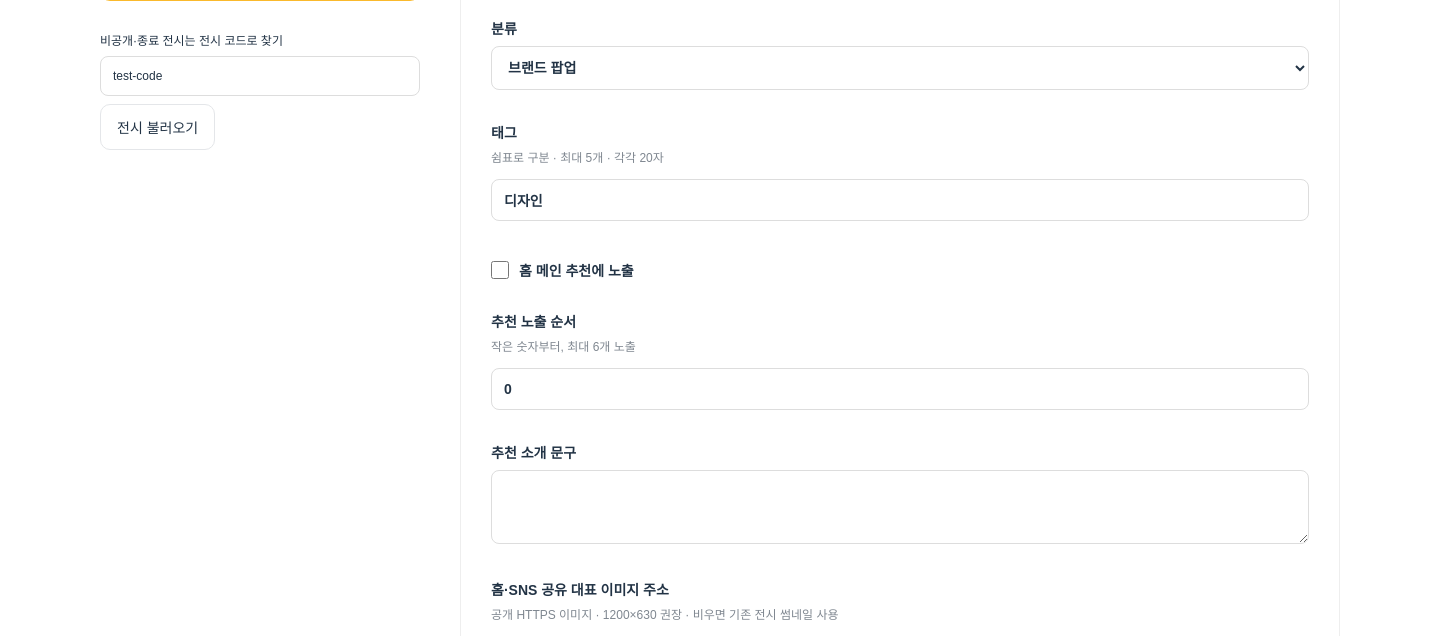
Test case: admin saves category, parsed tags and recommendation setting
(page scrolled)
Click the checkbox labelled "홈 메인 추천에 노출".
click(500, 270)  # box [491,261,509,279]
(page scrolled)
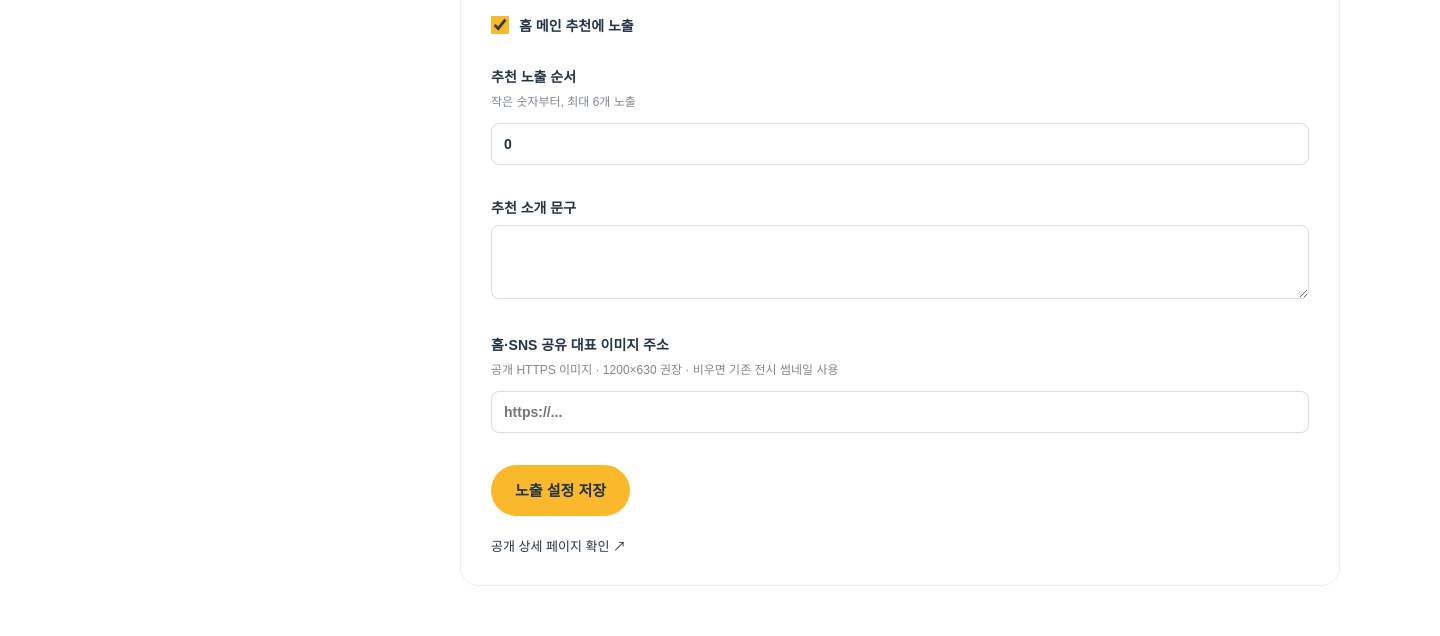
Click the button "노출 설정 저장".
click(561, 490)  # box [491,465,630,516]
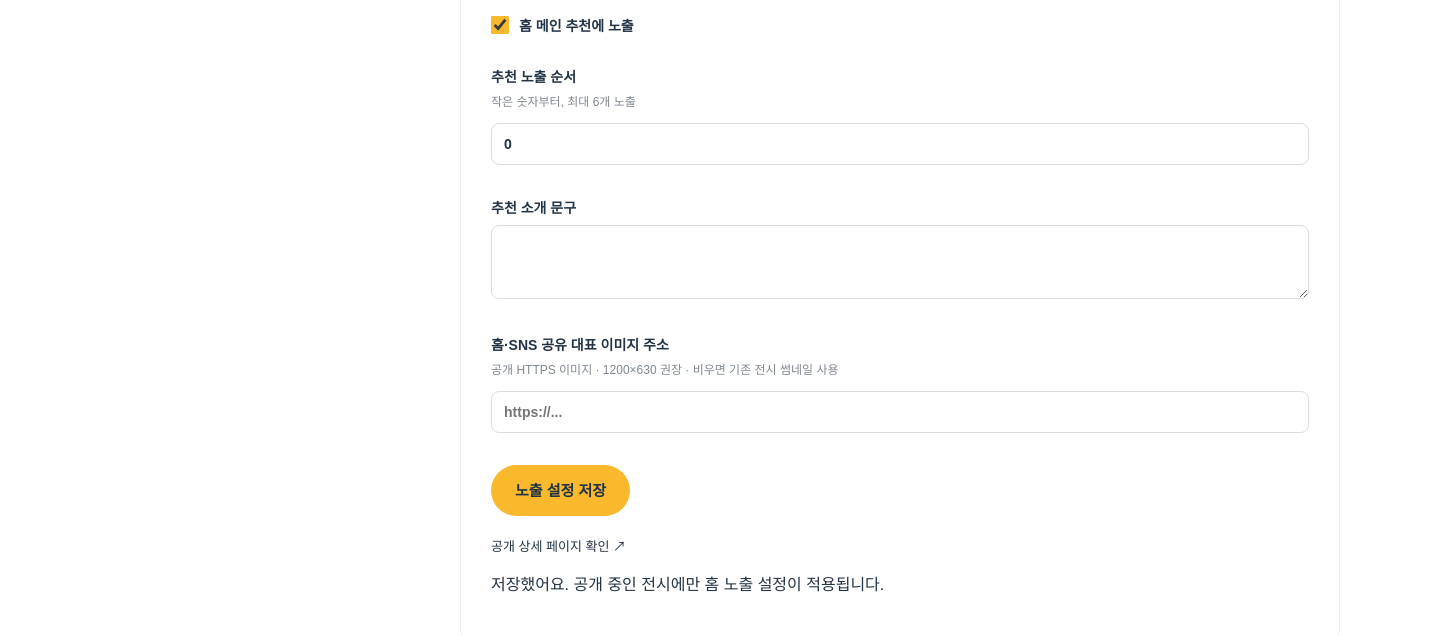
Check: the message shows "저장했어요", box [491,576,884,593]
